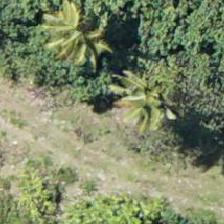coconut_tree: (24, 19, 114, 109), (103, 44, 193, 134), (65, 0, 155, 65)
